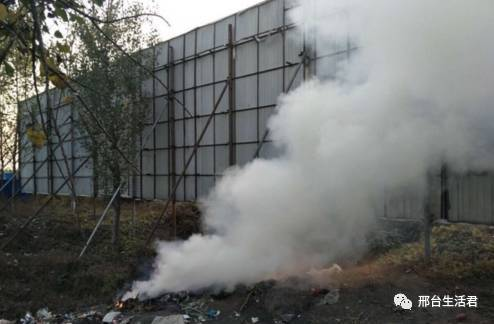smoke: (149, 7, 485, 260)
